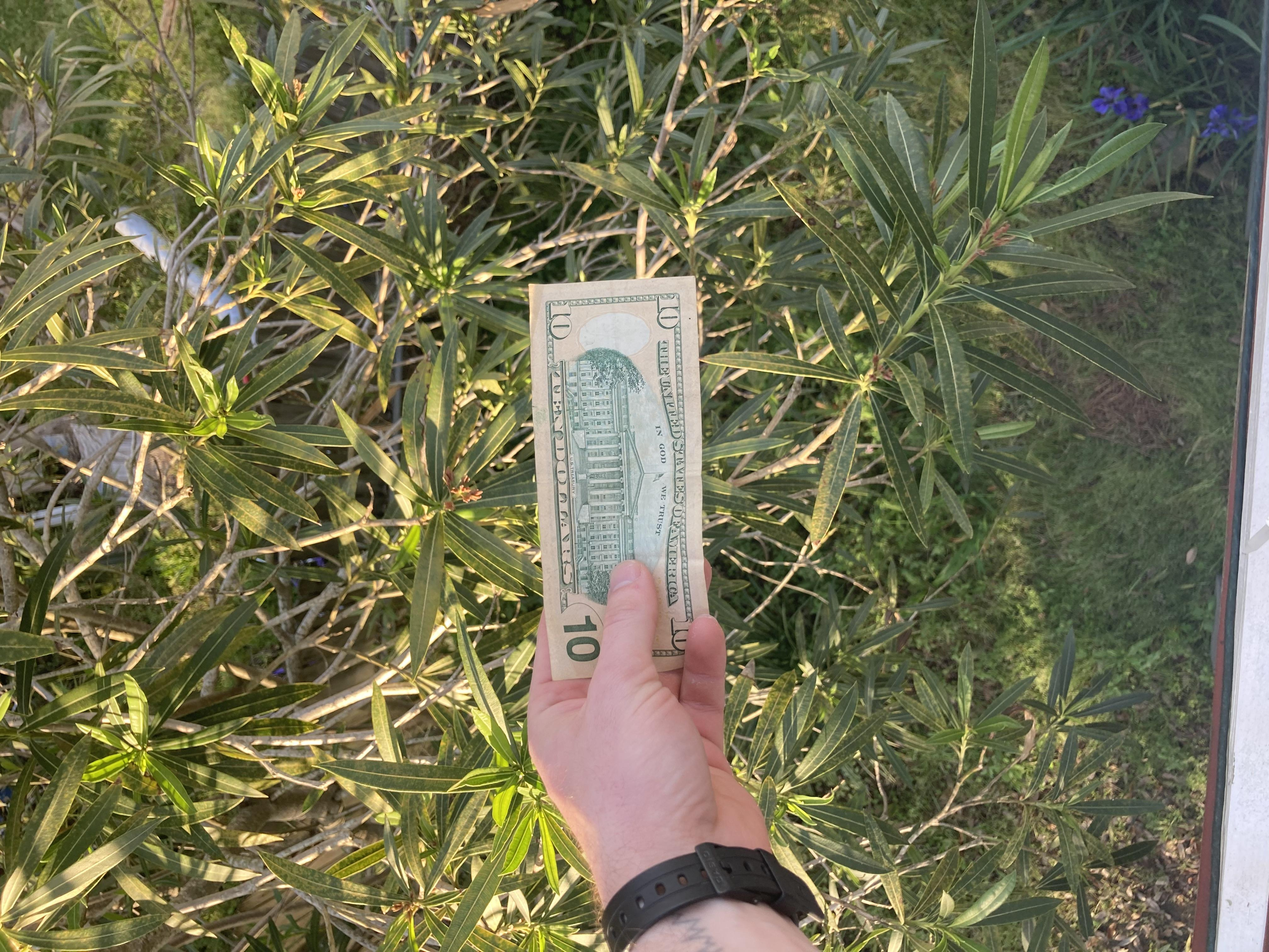ten-back: (362, 396, 903, 536)
